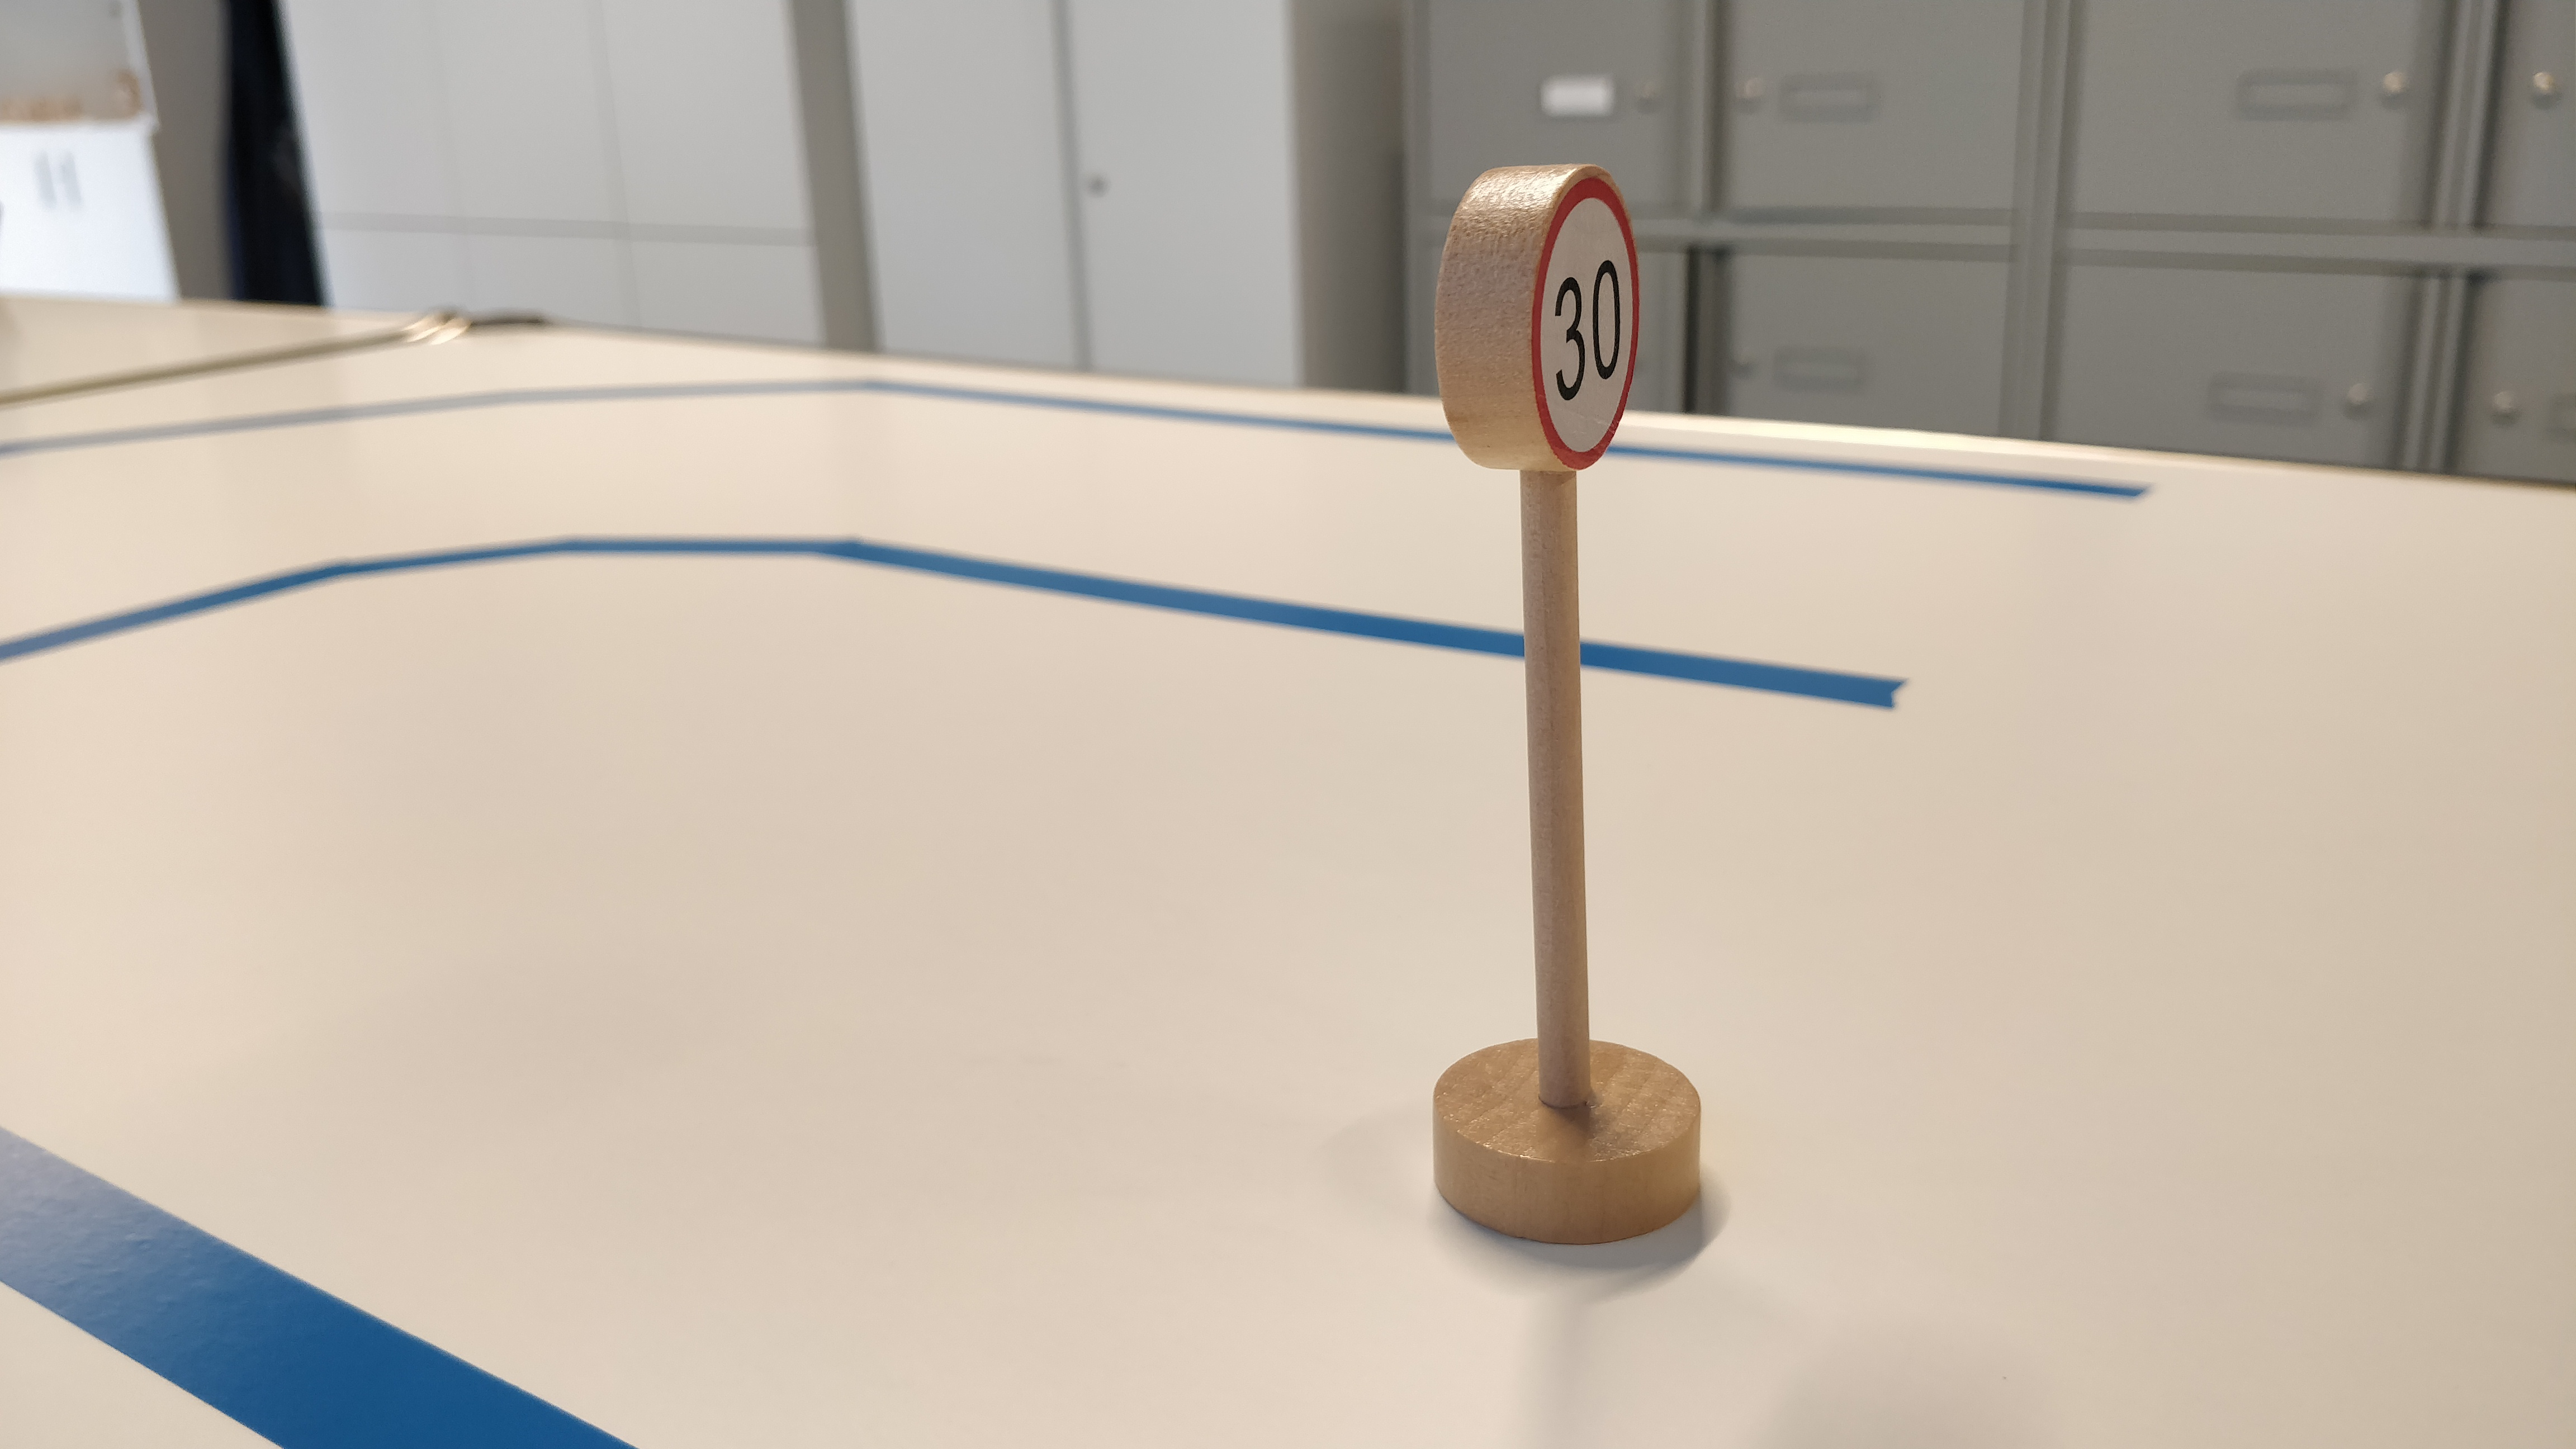Speed Limit 30: (1428, 158, 1649, 479)
